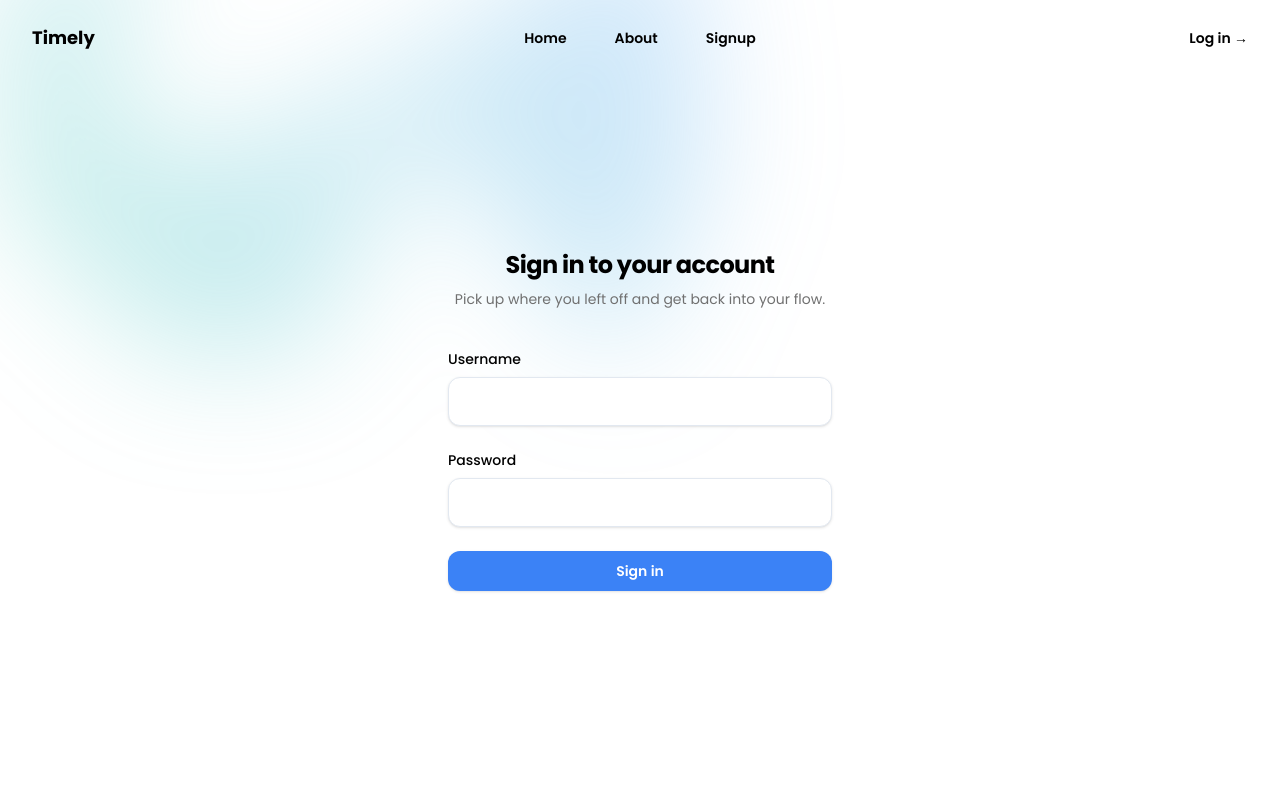
Scenario: Login page › disables submit and shows loading text while logging in
The image size is (1280, 800).
In the field labelled "Username": (640, 402) [448, 377, 832, 426], type "alice"
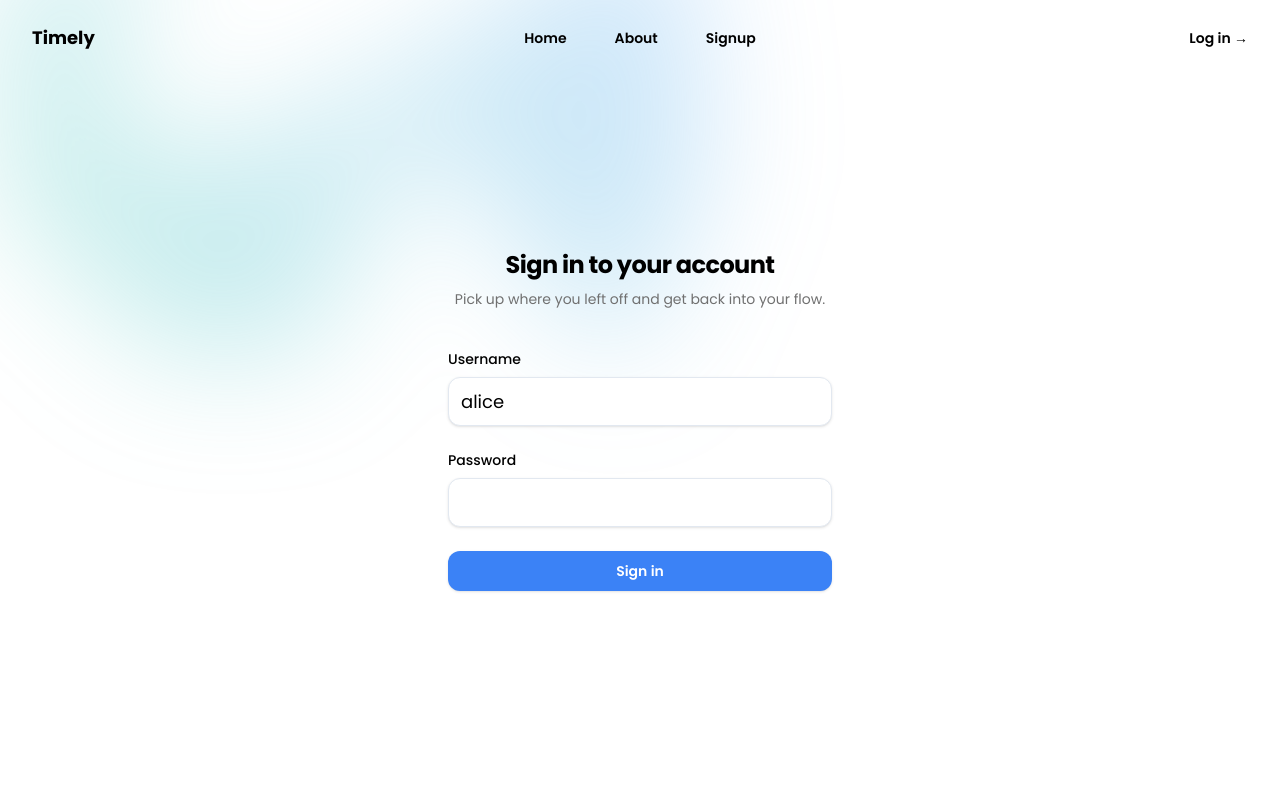
In the password field labelled "Password": (640, 502) [448, 478, 832, 527], type "secret"
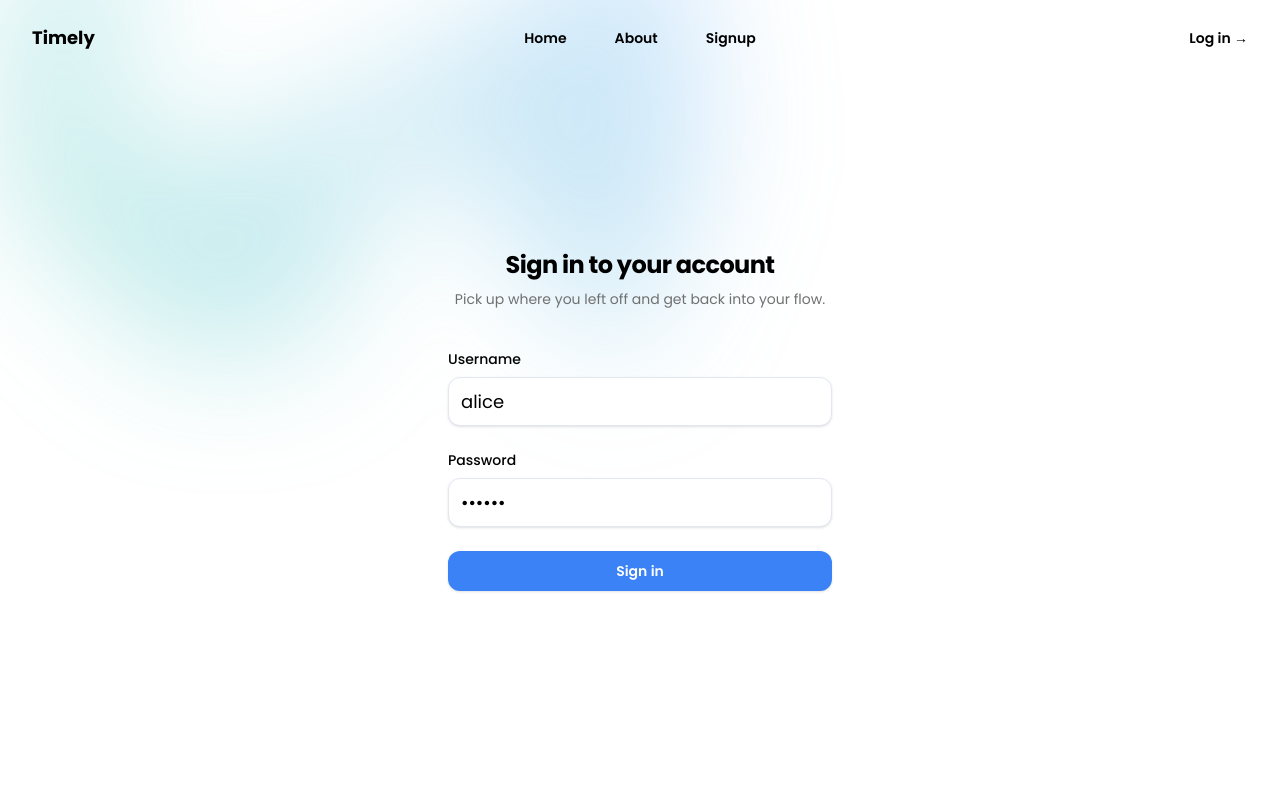
Click the button "Sign in": (640, 571) [448, 551, 832, 591]
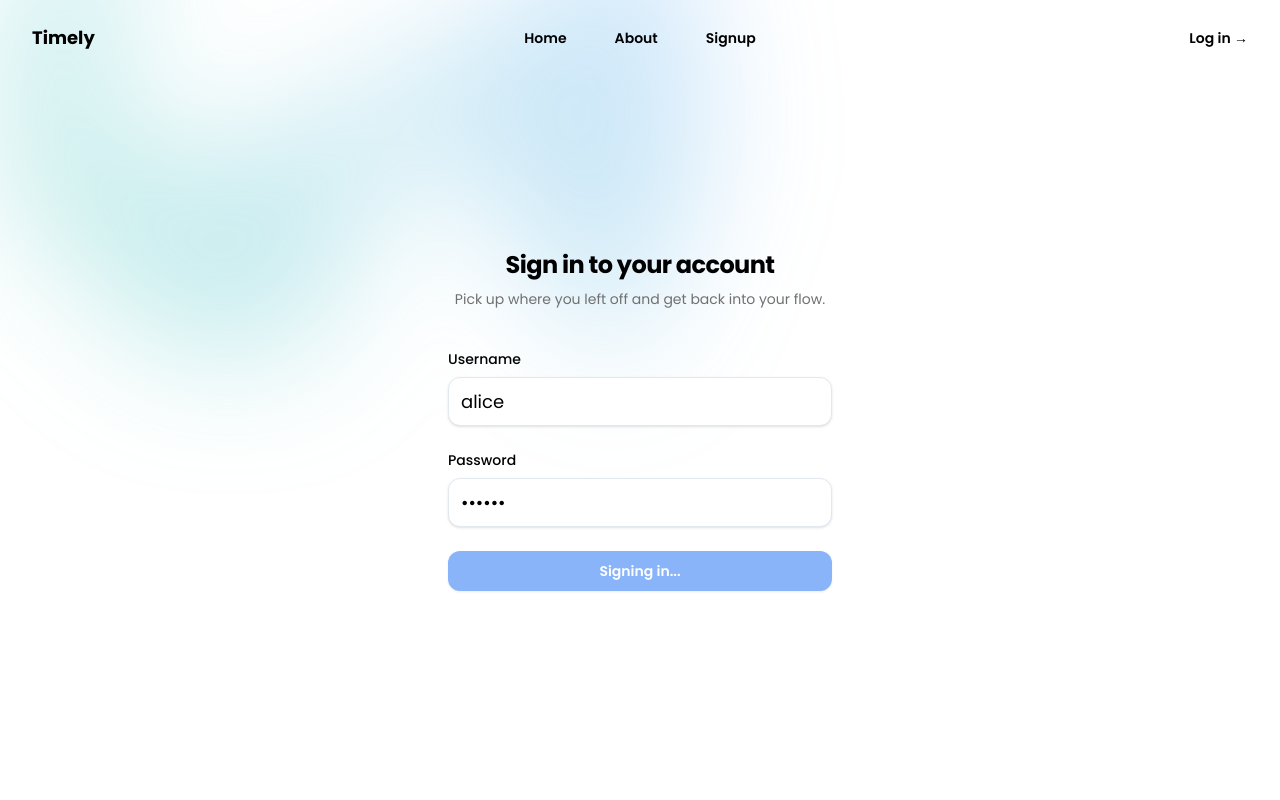
Expected: the button named "sign in" is disabled, [448, 551, 832, 591]
Expected: the button named "sign in" shows "Signing in", [448, 551, 832, 591]
